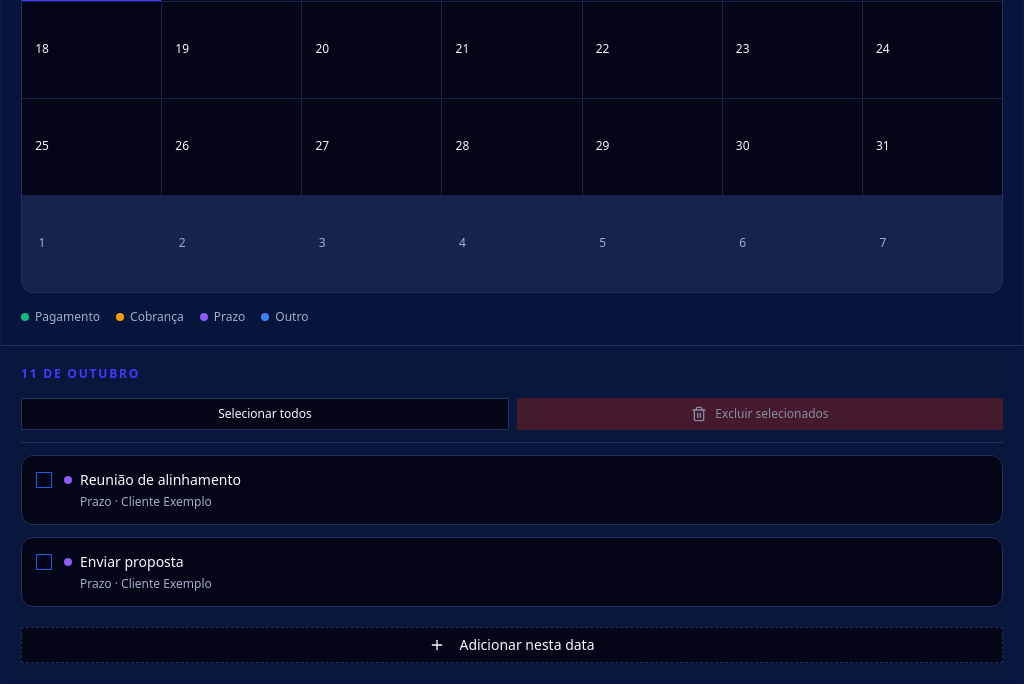
Test case: calendário do dashboard › seleciona eventos do dia e habilita a exclusão
This screenshot has width=1024, height=684.
(page scrolled)
Expected: the button "Excluir selecionados" is disabled, [517,398,1003,430]
Click the checkbox named "selecionar reunião de alinhamento" at (44, 480), box [36,472,52,488]
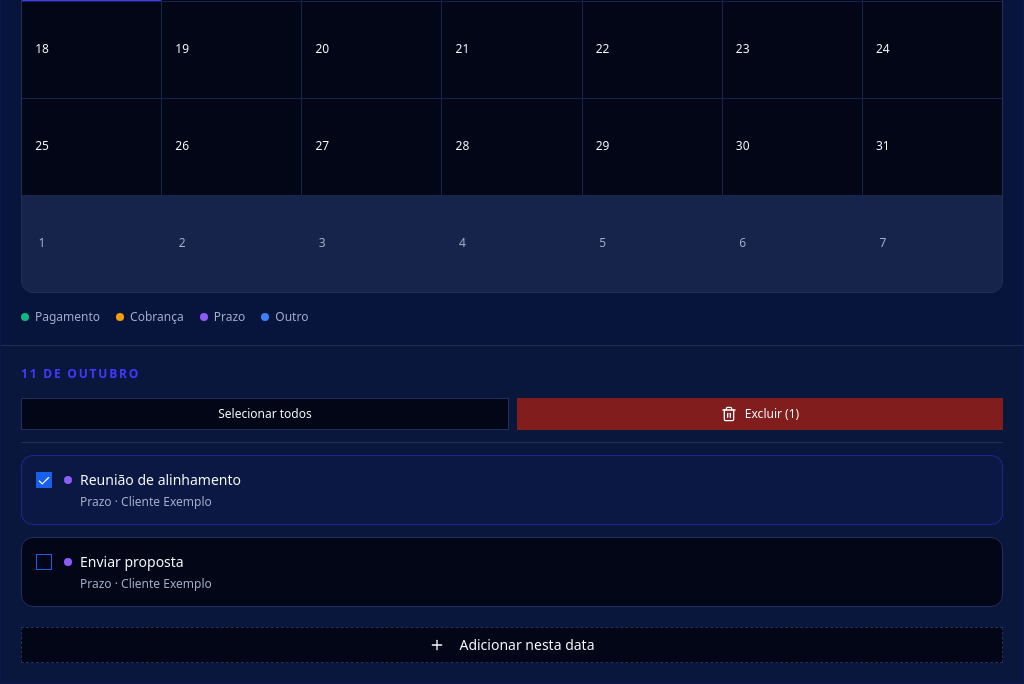
Expected: the button "Excluir (1)" is enabled, [517,398,1003,430]
Click the button "Selecionar todos" at (265, 414), box [21,398,509,430]
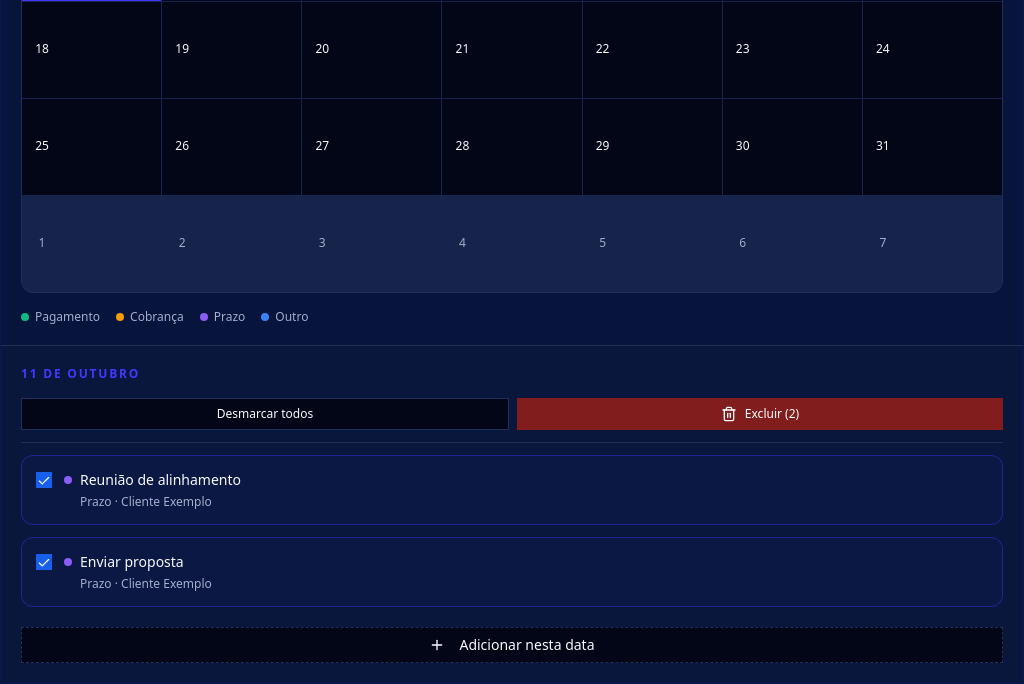
Expected: the checkbox named "selecionar reunião de alinhamento" is checked, [36,472,52,488]
Expected: the button "Excluir (2)" is enabled, [517,398,1003,430]
Expected: the checkbox named "selecionar enviar proposta" is checked, [36,554,52,570]
